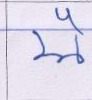ai_matra: (55, 8, 82, 28)
